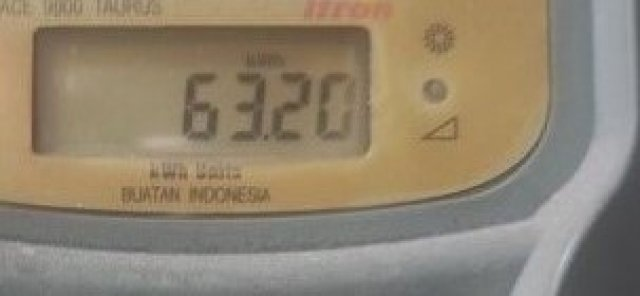box: (35, 28, 369, 154)
